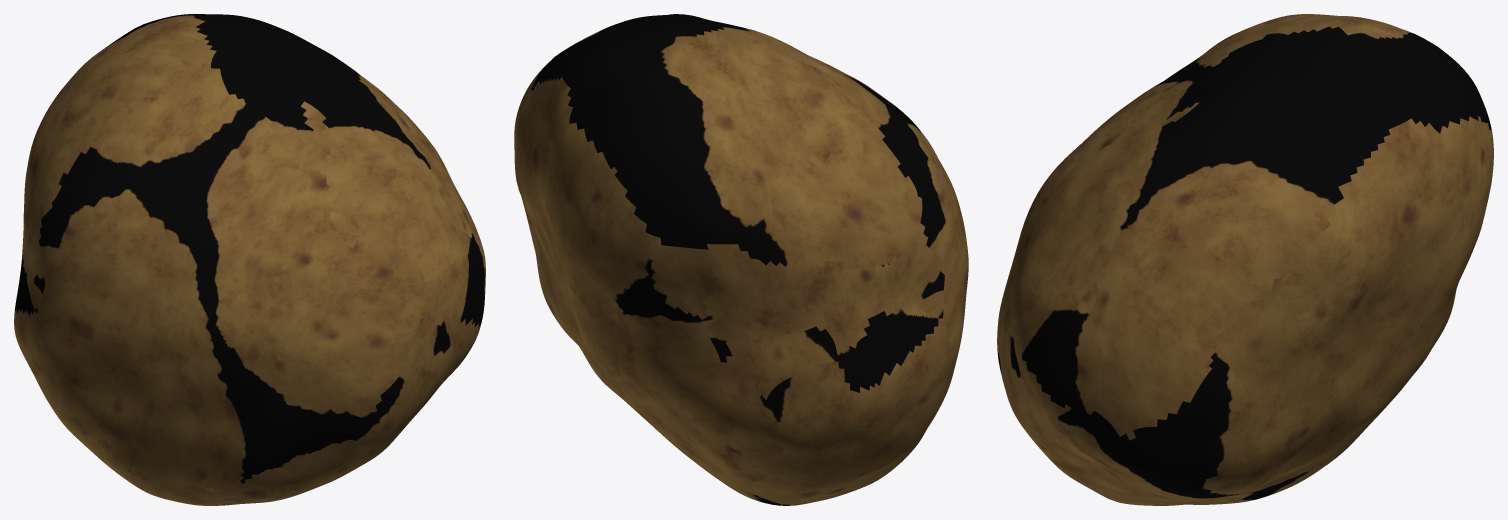
The picture shows the model from 3 angles, left to right: view 1: azimuth 30°, elevation 25°; view 2: azimuth 150°, elevation 25°; view 3: azimuth 270°, elevation 25°; orthographic projection. The views are drawn at different scales.
Visible parts, largest first — view 1: original_ico.009; view 2: original_ico.009; view 3: original_ico.009.
Boxes of the visible parts, bbox=[...] form: original_ico.009: bbox=[14, 14, 485, 505]; original_ico.009: bbox=[514, 14, 968, 505]; original_ico.009: bbox=[997, 14, 1493, 505].
Bounding box in the file's own units: 3.62 × 3.77 × 3.47.
